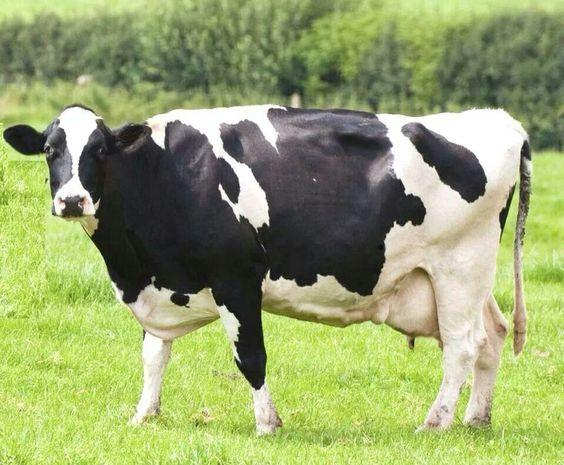cow: (29, 41, 551, 430)
